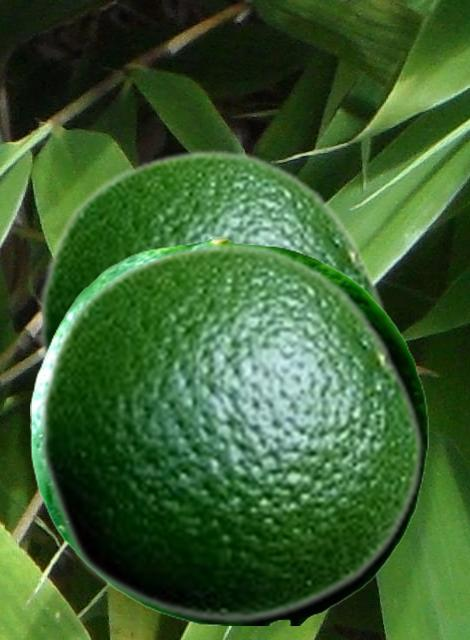calamansi: (30, 235, 427, 624), (36, 241, 424, 624), (36, 148, 391, 366)
